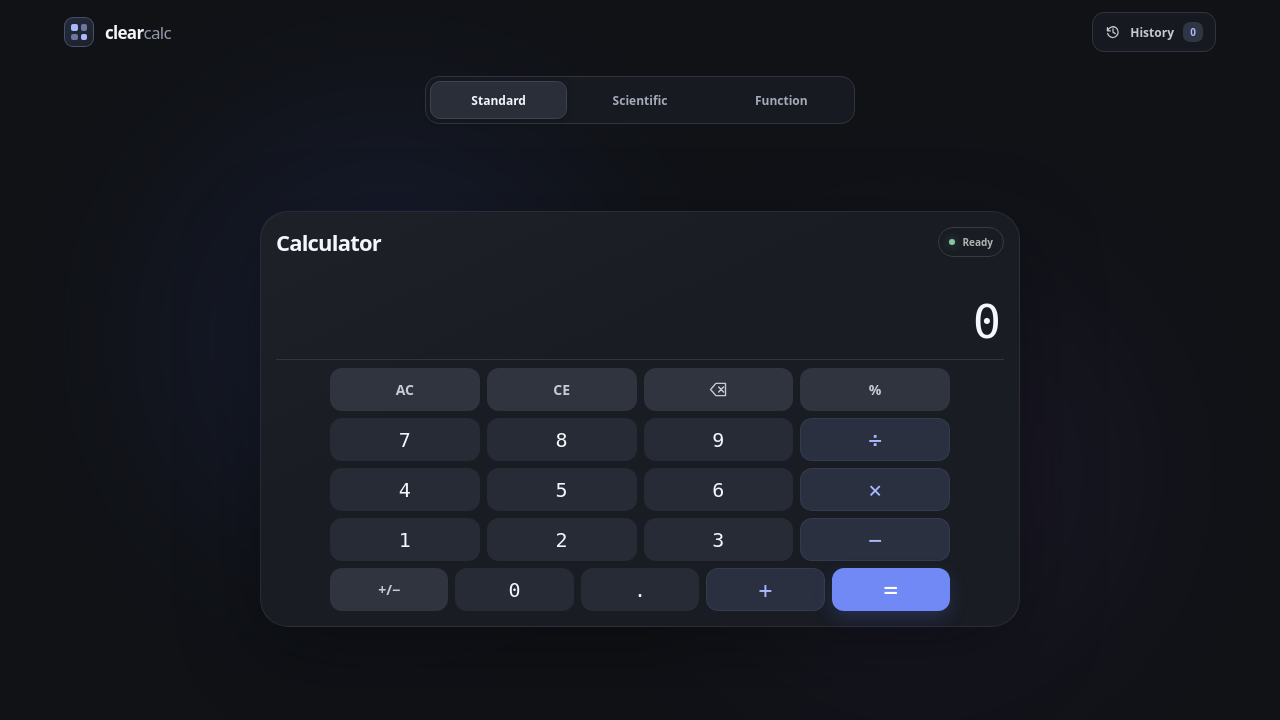
Calculator › replaces an operator before the next operand and repeats equals
Click the button "2" at point(562, 540), box top-left (487, 518), bottom-right (637, 561)
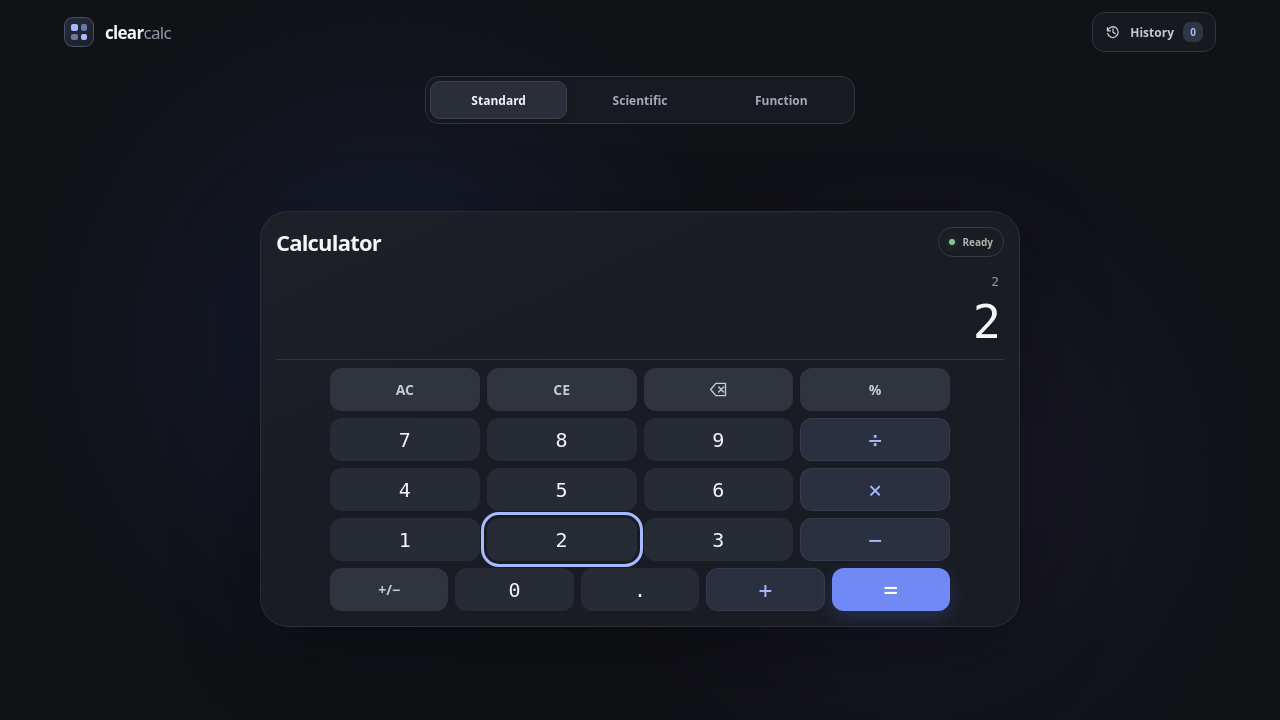
Click the button named "Add" at point(765, 590), box top-left (706, 568), bottom-right (825, 611)
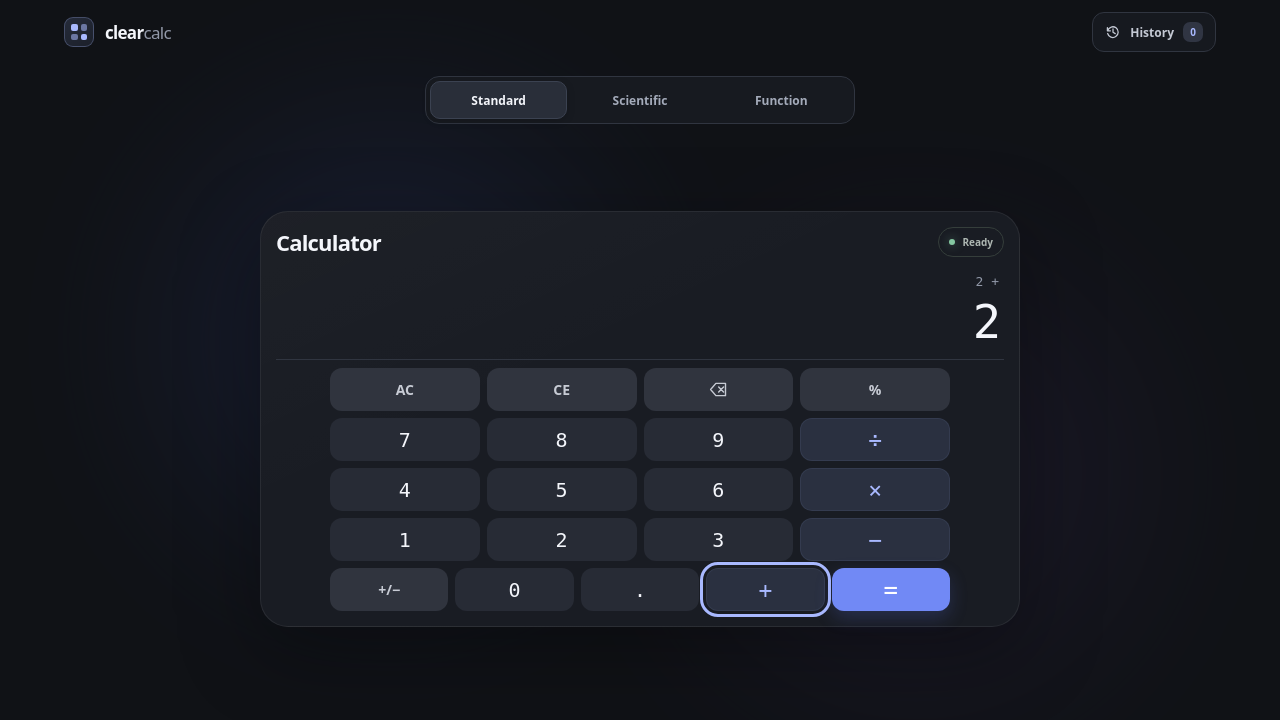
Click the button named "Multiply" at point(875, 490), box top-left (800, 468), bottom-right (950, 511)
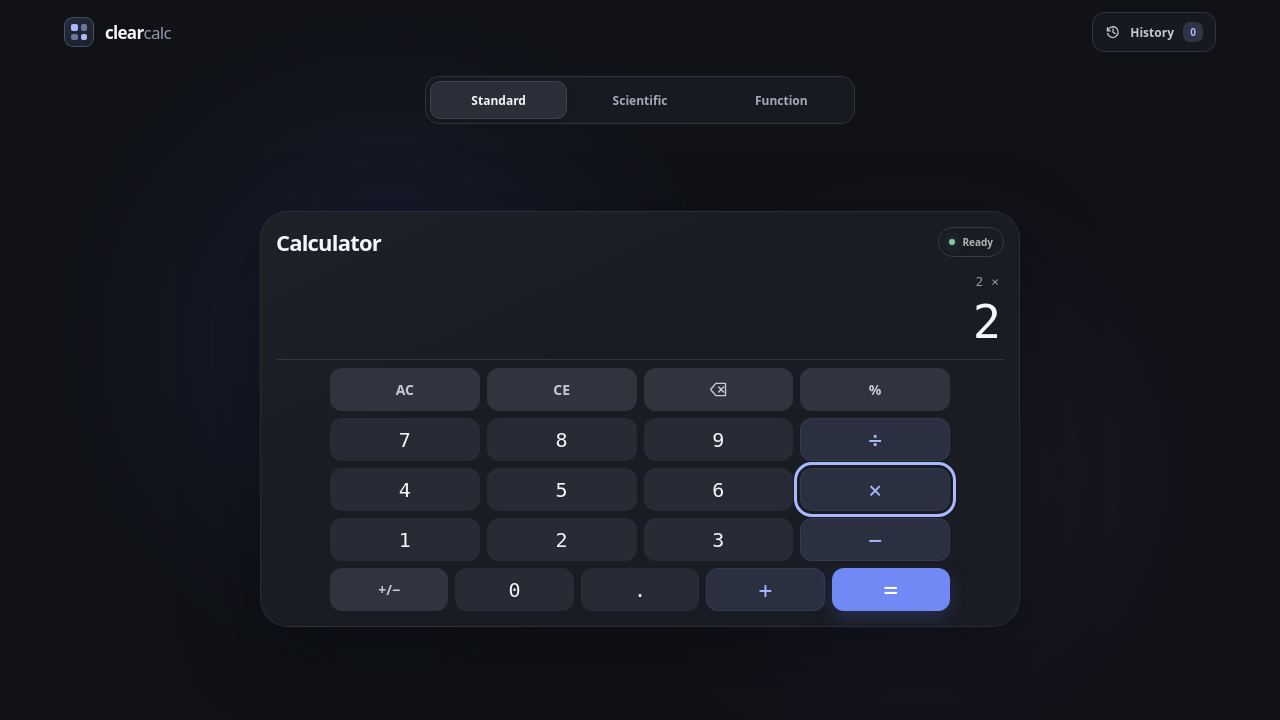
Click the button "3" at point(718, 540), box top-left (644, 518), bottom-right (793, 561)
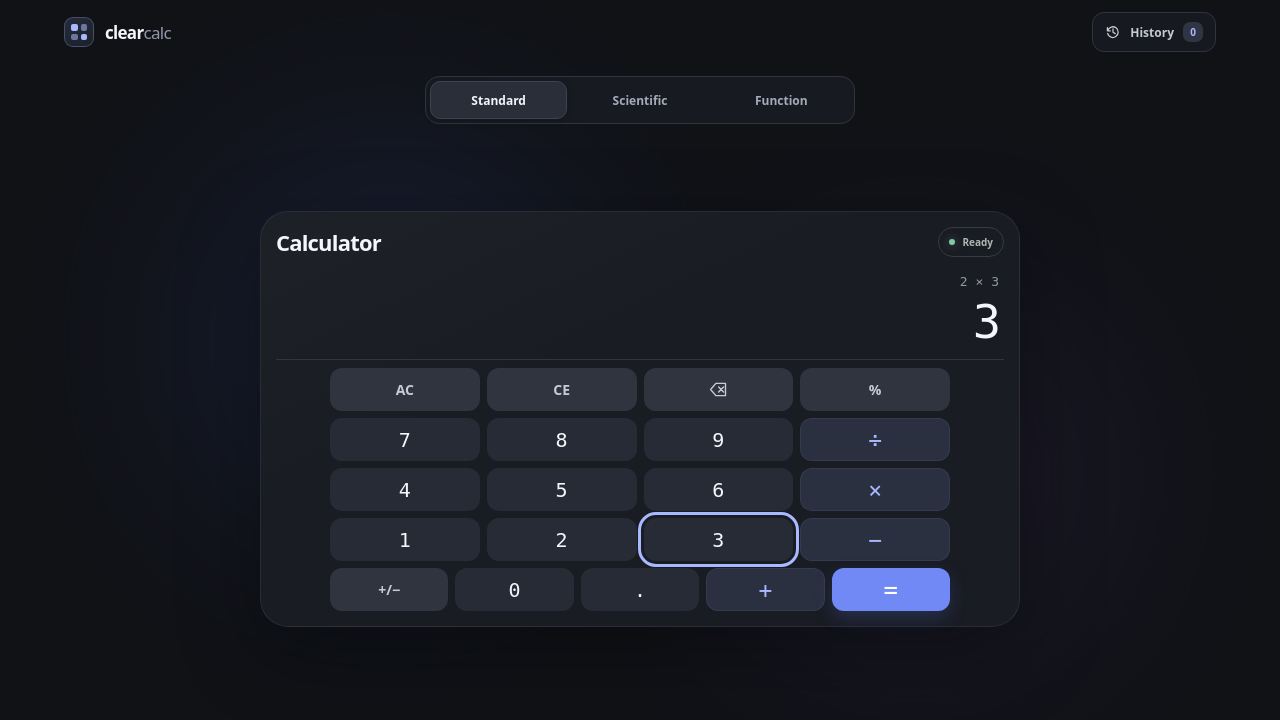
Click the button named "Equals" at point(891, 590), box top-left (832, 568), bottom-right (950, 611)
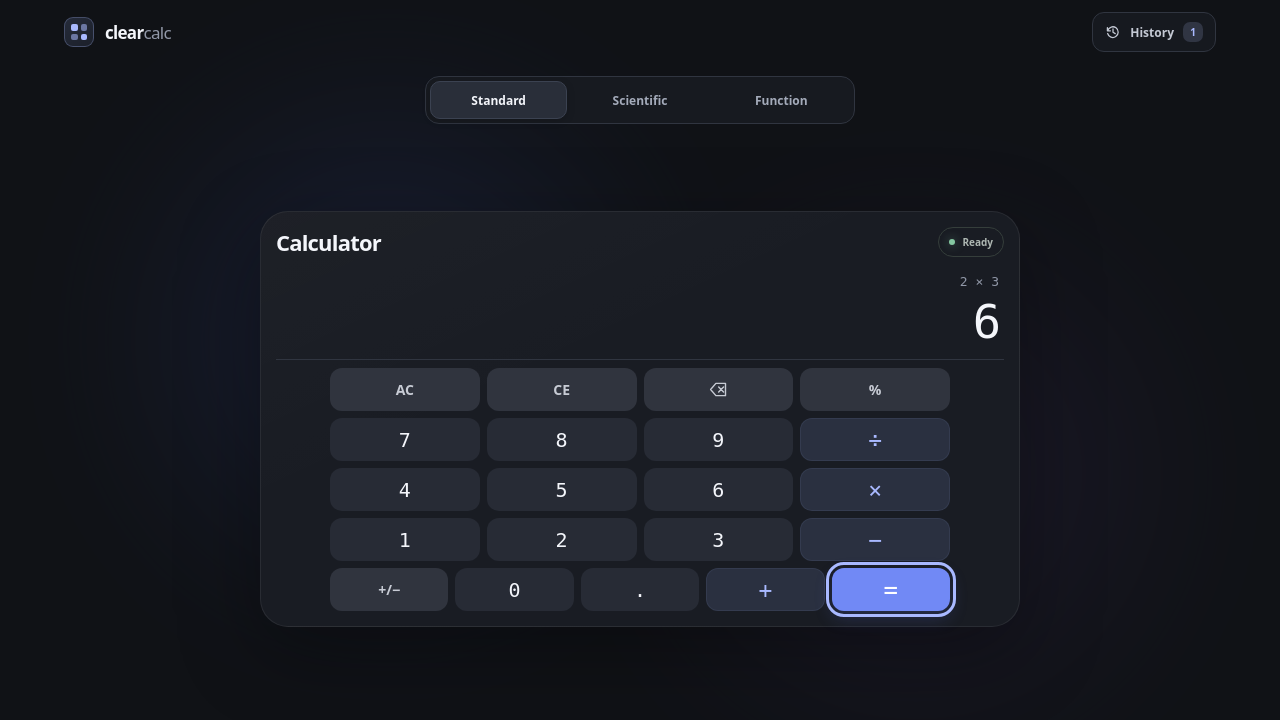
Click the button named "Equals" at point(891, 590), box top-left (832, 568), bottom-right (950, 611)
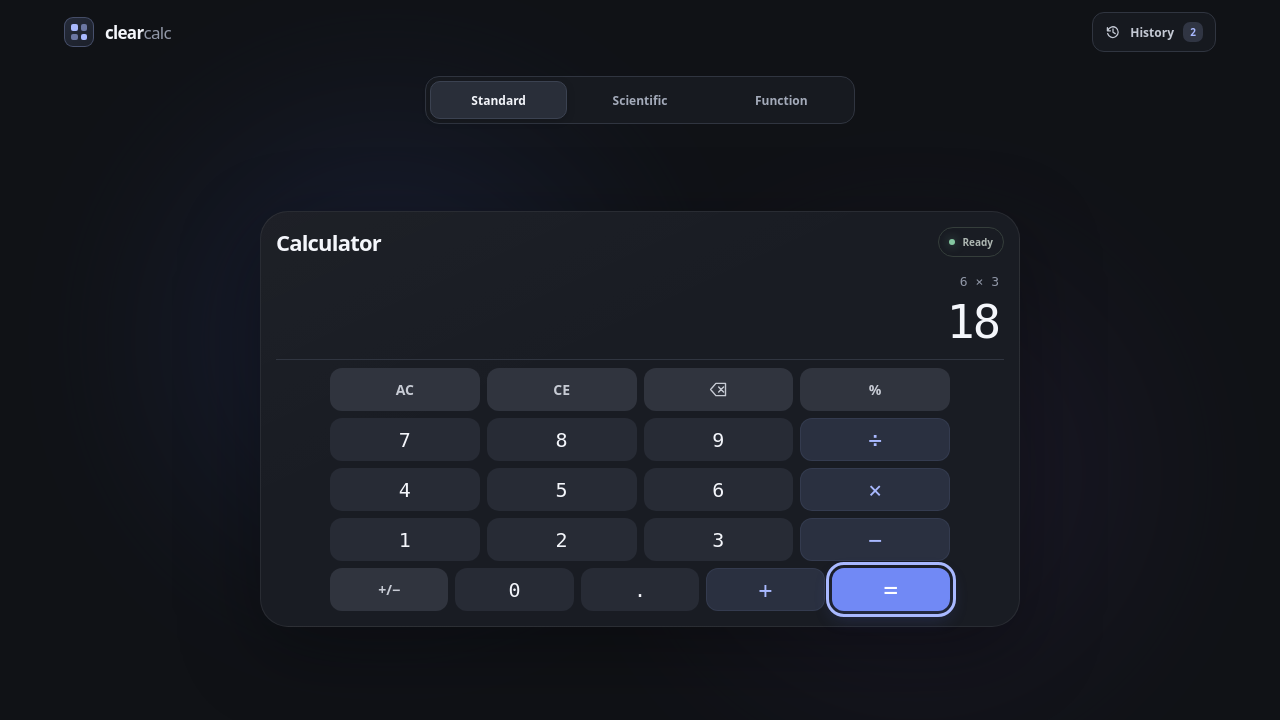
Expected: the text named "Current value" reads "18", top-left (946, 294), bottom-right (999, 349)
